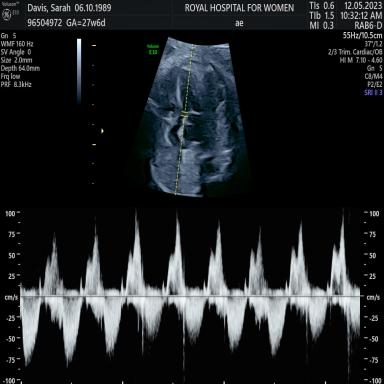Ultrasound-Waves: (24, 207, 360, 383)
